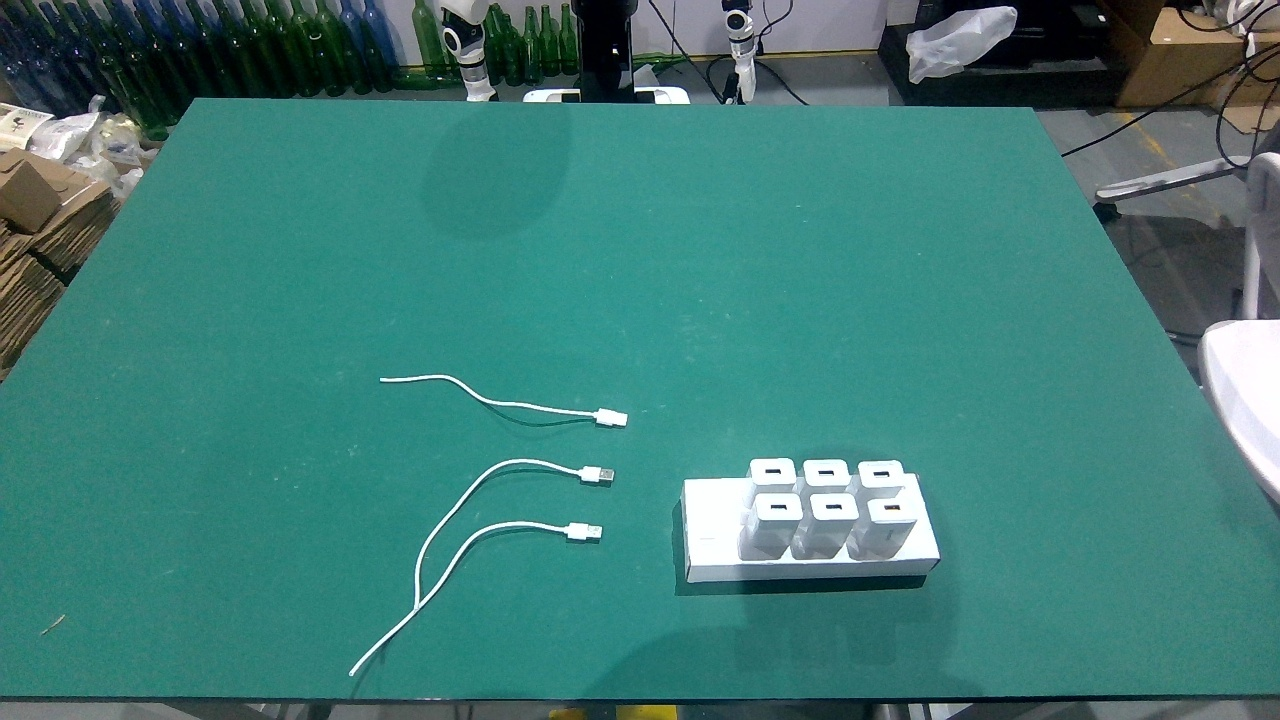usb_a_plug: (575, 402, 638, 429), (555, 463, 627, 483), (544, 521, 609, 541)
